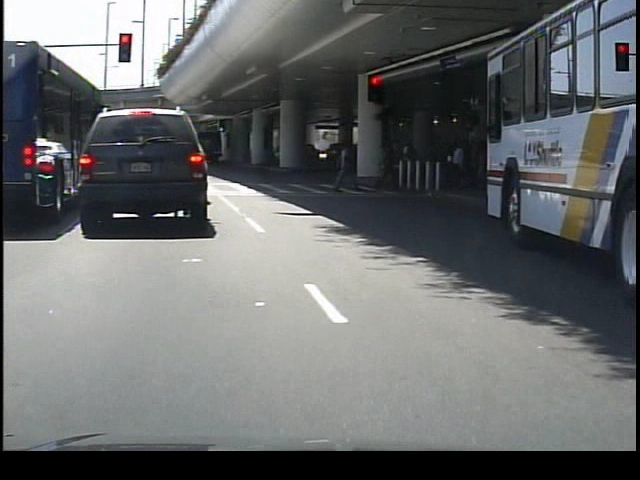person: (330, 135, 360, 197), (443, 136, 472, 195), (377, 136, 403, 192)
